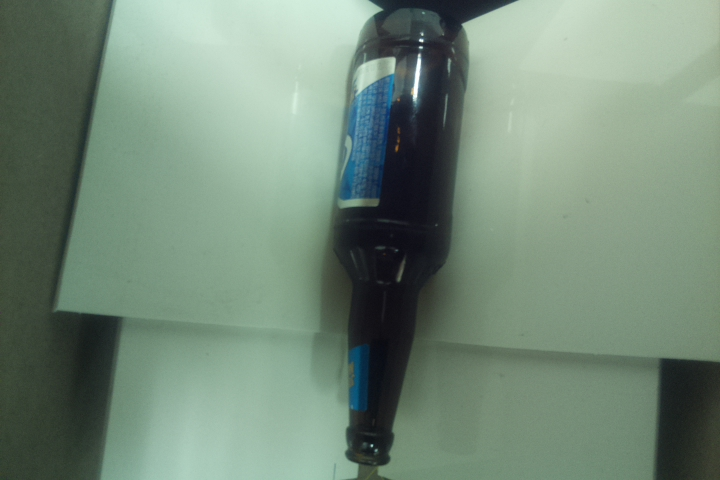makju: (328, 1, 472, 467)
